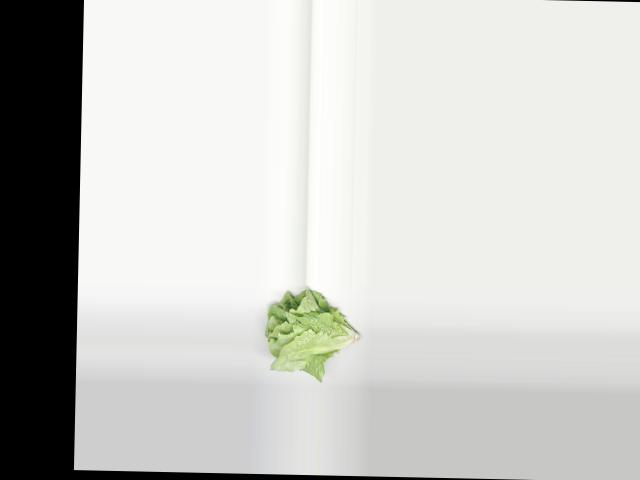lettuce: (263, 287, 363, 382)
